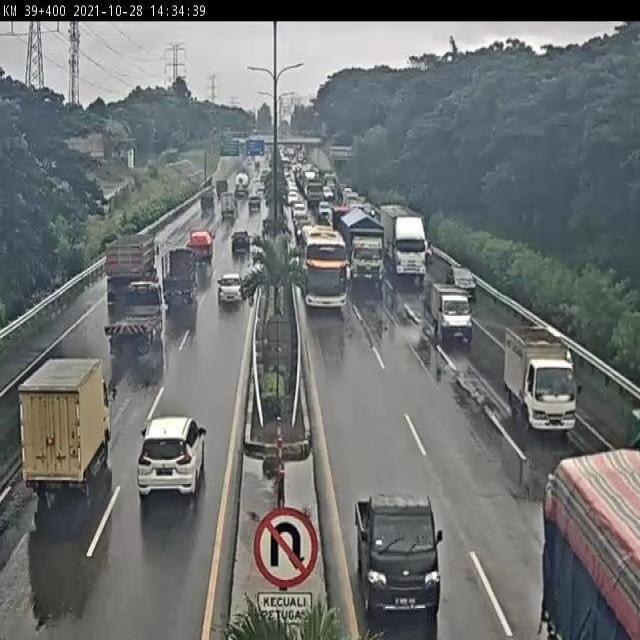car: (352, 488, 443, 615), (137, 415, 210, 501), (429, 279, 473, 345), (445, 263, 479, 300), (216, 270, 247, 306), (229, 227, 252, 255)
truck: (19, 355, 115, 499), (502, 319, 578, 435), (298, 224, 352, 312), (106, 279, 167, 345), (338, 205, 386, 288), (381, 204, 430, 284), (104, 232, 160, 299), (161, 247, 202, 304), (187, 228, 217, 264)
